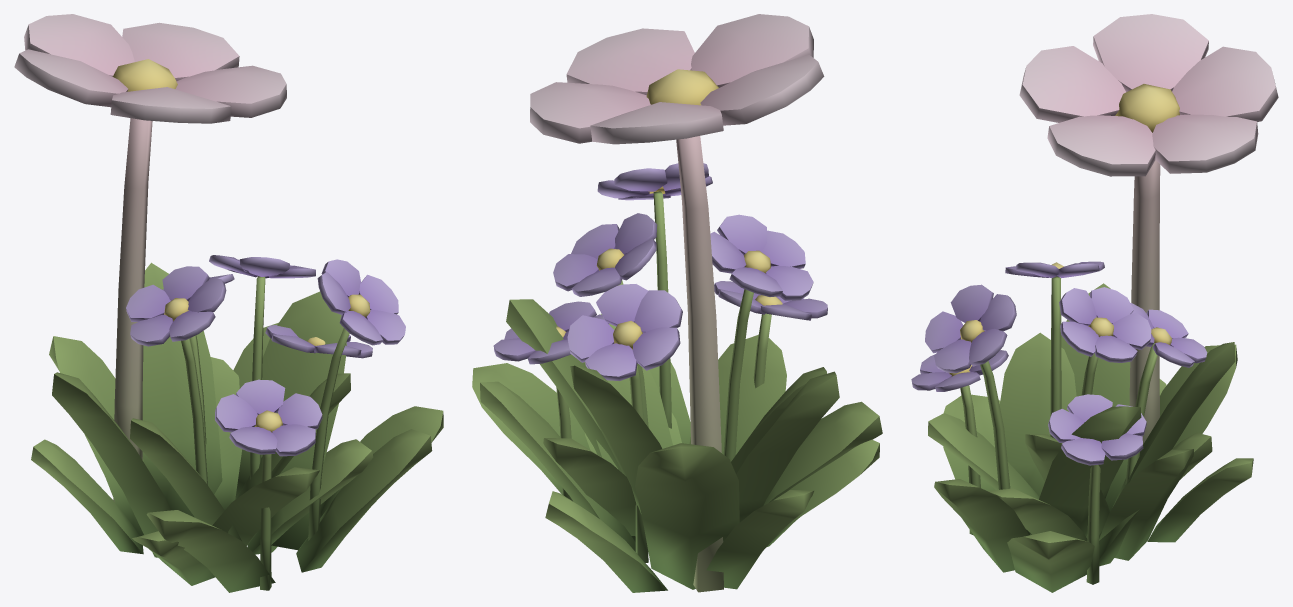
Rendered from flowers_mixed_a.glb.
The picture shows the model from 3 angles, left to right: view 1: azimuth 30°, elevation 25°; view 2: azimuth 150°, elevation 25°; view 3: azimuth 270°, elevation 25°; orthographic projection. The views are drawn at different scales.
Visible parts, largest first — view 1: Flowers_Mixed_A.001; view 2: Flowers_Mixed_A.001; view 3: Flowers_Mixed_A.001.
Boxes of the visible parts, <box> form: Flowers_Mixed_A.001: <box>14,14,443,592</box>; Flowers_Mixed_A.001: <box>472,14,882,592</box>; Flowers_Mixed_A.001: <box>911,14,1278,592</box>.
Size of the model in its own units: 0.4385 by 0.5779 by 0.4129.
